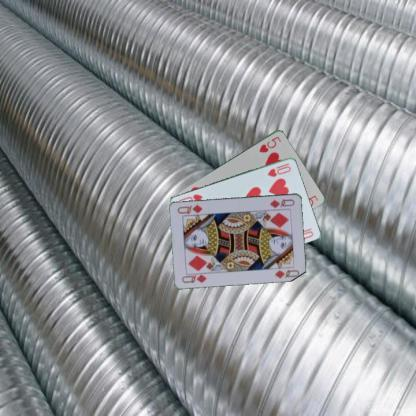10h: (265, 161, 292, 178)
5h: (256, 134, 282, 154)
Qd: (180, 270, 209, 284), (267, 196, 296, 209)
